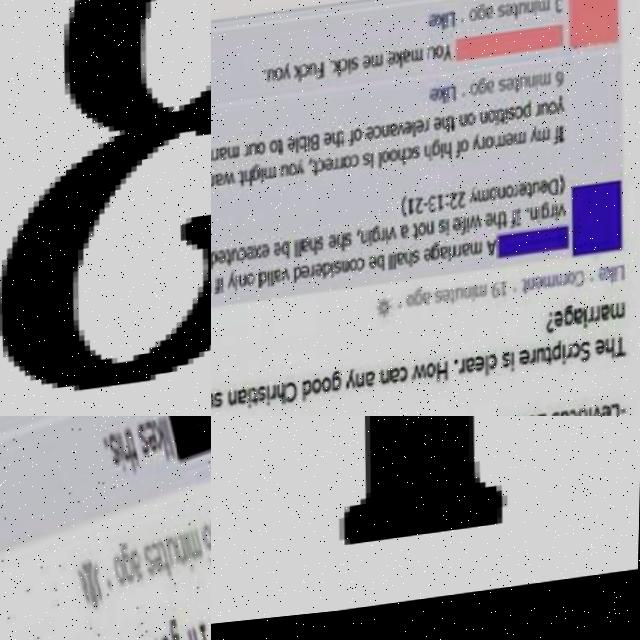1: (501, 289, 509, 308), (437, 202, 445, 219), (409, 206, 416, 222)
2: (459, 199, 466, 218), (417, 204, 424, 223), (452, 201, 459, 219)
3: (0, 0, 211, 415), (428, 202, 438, 221), (556, 6, 563, 25)
6: (201, 530, 211, 577), (555, 81, 564, 100)
9: (491, 291, 502, 309)
A: (465, 364, 477, 383), (366, 376, 377, 395), (238, 391, 249, 410), (601, 315, 612, 334), (487, 247, 498, 266), (391, 374, 402, 392), (423, 297, 433, 313), (576, 320, 585, 337), (440, 253, 449, 269), (487, 87, 496, 103), (486, 13, 495, 29), (463, 251, 472, 266), (275, 273, 284, 288), (220, 149, 229, 164), (302, 244, 311, 258), (398, 258, 406, 273), (401, 232, 409, 247), (216, 176, 224, 191), (390, 129, 398, 144), (403, 56, 411, 71)
B: (282, 246, 292, 265), (310, 139, 319, 157), (377, 260, 385, 279), (300, 140, 307, 159)
C: (287, 386, 298, 409), (575, 281, 587, 300), (574, 352, 583, 371), (400, 372, 409, 391), (490, 364, 499, 379), (301, 68, 309, 83), (407, 154, 414, 169), (341, 63, 348, 78), (239, 251, 246, 265), (359, 263, 365, 278), (353, 160, 359, 175), (319, 165, 325, 179), (375, 133, 381, 146)
D: (304, 385, 314, 408), (548, 188, 560, 207), (324, 266, 332, 285), (294, 270, 301, 289), (260, 274, 267, 293), (212, 254, 219, 273)
E: (597, 349, 608, 368), (521, 358, 532, 377), (476, 364, 487, 383), (555, 320, 566, 339), (328, 240, 338, 255), (404, 127, 413, 143), (504, 11, 513, 27), (316, 268, 325, 283), (262, 248, 271, 263), (541, 189, 550, 204), (325, 163, 334, 178), (416, 126, 425, 141), (362, 61, 371, 76), (367, 132, 376, 146), (302, 270, 311, 284), (600, 277, 608, 292), (486, 222, 494, 237), (455, 225, 463, 240), (519, 192, 527, 207), (434, 124, 442, 139), (288, 141, 296, 156), (431, 94, 439, 109), (537, 286, 545, 300), (444, 296, 452, 310), (370, 262, 378, 276), (275, 246, 282, 262), (247, 249, 254, 265), (219, 254, 227, 268), (324, 138, 332, 152), (506, 87, 514, 101), (388, 58, 396, 72), (430, 21, 438, 35), (426, 255, 432, 270), (508, 143, 514, 157)
F: (315, 66, 325, 85), (460, 226, 468, 245), (553, 137, 560, 156), (455, 148, 462, 167), (215, 281, 222, 299), (510, 221, 517, 239), (348, 136, 355, 154)
G: (565, 315, 577, 336), (333, 377, 343, 398), (433, 146, 443, 165), (432, 250, 441, 269), (479, 85, 488, 104), (542, 212, 551, 230), (478, 12, 487, 30), (372, 233, 380, 250), (417, 296, 424, 314), (254, 168, 261, 186)
H: (437, 369, 450, 390), (606, 349, 616, 372), (278, 388, 288, 411), (406, 257, 414, 276), (338, 240, 346, 259), (494, 221, 501, 240), (399, 155, 406, 174), (245, 173, 252, 192), (333, 137, 340, 156), (425, 152, 432, 171), (311, 244, 318, 262), (445, 150, 452, 168), (443, 125, 450, 143)
I: (516, 218, 523, 236), (558, 137, 565, 155), (512, 361, 517, 382), (267, 391, 272, 411), (555, 215, 560, 234), (267, 273, 272, 291), (368, 236, 373, 254), (445, 94, 450, 112), (563, 355, 567, 377), (586, 318, 590, 340), (249, 392, 253, 413), (440, 151, 445, 167), (535, 85, 540, 101), (538, 216, 542, 235), (466, 225, 470, 244), (446, 227, 450, 246), (385, 234, 389, 253), (496, 117, 500, 136), (534, 9, 538, 28), (472, 295, 477, 310), (448, 253, 452, 271), (444, 19, 448, 37), (370, 159, 374, 175), (504, 118, 508, 134), (221, 281, 225, 296), (261, 173, 265, 188), (332, 266, 335, 284), (348, 63, 351, 81), (307, 141, 310, 157), (616, 277, 618, 295)
J: (323, 416, 557, 565)
K: (395, 56, 403, 75), (333, 65, 341, 84), (608, 277, 615, 296), (438, 95, 445, 114), (294, 69, 301, 88), (437, 21, 444, 40)
L: (619, 275, 626, 294), (450, 93, 457, 112), (449, 19, 456, 38), (486, 364, 491, 387), (412, 128, 417, 147), (390, 259, 394, 278), (393, 259, 397, 277), (271, 275, 275, 293), (295, 246, 299, 264), (379, 158, 383, 176), (299, 245, 302, 264), (236, 278, 239, 296), (296, 142, 299, 160)
M: (611, 314, 627, 332), (476, 292, 489, 307), (477, 198, 490, 213), (537, 140, 552, 153), (544, 284, 556, 299), (472, 250, 484, 265), (515, 141, 527, 156), (494, 144, 506, 159), (227, 149, 239, 164), (411, 55, 423, 70), (371, 60, 383, 75), (538, 7, 550, 22), (556, 284, 569, 297), (265, 172, 277, 185), (539, 83, 551, 96)
N: (381, 376, 391, 392), (358, 379, 367, 395), (230, 394, 239, 410), (342, 265, 350, 280), (239, 278, 247, 293), (428, 229, 435, 244), (481, 118, 488, 133), (382, 130, 389, 145), (528, 84, 535, 99), (465, 295, 472, 309), (362, 237, 369, 251), (532, 218, 538, 233), (499, 194, 505, 209), (461, 122, 467, 137), (527, 10, 533, 25), (530, 288, 536, 300), (211, 178, 214, 190)
O: (312, 384, 324, 400), (427, 371, 438, 387), (323, 383, 334, 399), (343, 161, 353, 177), (487, 118, 497, 134), (467, 120, 477, 136), (461, 148, 470, 163), (354, 133, 363, 148), (274, 71, 283, 86), (407, 301, 416, 315), (350, 265, 359, 279), (505, 194, 514, 208), (486, 145, 495, 159), (390, 157, 399, 171), (247, 277, 255, 292), (490, 195, 498, 210), (382, 157, 390, 172), (289, 168, 297, 183), (270, 144, 278, 159), (470, 16, 478, 31), (419, 230, 427, 244), (257, 146, 265, 160), (471, 91, 479, 105), (435, 53, 443, 67), (570, 282, 577, 296), (550, 111, 557, 125), (516, 115, 523, 129)
P: (553, 352, 564, 371), (524, 109, 531, 128)
R: (531, 357, 538, 376), (460, 367, 467, 383), (271, 390, 278, 406), (595, 317, 602, 333), (589, 318, 596, 334), (567, 355, 574, 370), (380, 235, 387, 249), (535, 114, 542, 128), (452, 252, 458, 267), (480, 146, 486, 161), (333, 163, 339, 178), (424, 126, 430, 141), (243, 147, 249, 162), (457, 253, 463, 267), (310, 269, 316, 283), (549, 215, 555, 229), (513, 193, 519, 207), (338, 163, 344, 177), (215, 151, 221, 165), (211, 150, 214, 164)
S: (581, 352, 592, 374), (259, 391, 269, 408), (215, 396, 224, 413), (504, 362, 513, 378), (363, 159, 371, 174), (352, 61, 359, 77), (437, 297, 444, 312), (318, 242, 325, 256), (336, 267, 342, 282), (415, 153, 421, 168), (509, 115, 515, 130), (414, 257, 420, 271), (439, 228, 445, 242), (346, 239, 352, 253), (499, 88, 505, 102), (498, 13, 504, 27)
T: (616, 348, 629, 371), (312, 165, 320, 184), (498, 116, 506, 135), (449, 122, 457, 141), (253, 390, 260, 411), (500, 221, 508, 239), (547, 357, 554, 376), (522, 287, 529, 306), (451, 295, 458, 314), (238, 173, 245, 192), (513, 10, 520, 29), (412, 231, 420, 247), (526, 192, 533, 209), (514, 85, 521, 102), (226, 253, 233, 269), (340, 136, 347, 152), (278, 144, 285, 160), (211, 281, 213, 297)
U: (537, 358, 548, 374), (533, 190, 542, 206), (282, 167, 289, 182), (542, 111, 549, 126), (309, 67, 316, 82), (232, 252, 239, 266), (457, 295, 464, 308), (251, 146, 257, 161), (521, 84, 527, 99), (429, 53, 435, 68), (520, 11, 526, 26), (268, 72, 274, 86), (211, 396, 215, 412)
V: (283, 273, 290, 287), (560, 213, 566, 228), (399, 129, 405, 144), (390, 234, 396, 248)
W: (413, 371, 430, 389), (471, 224, 483, 239), (223, 175, 235, 190)
X: (254, 249, 260, 263)
Y: (347, 374, 359, 395), (443, 51, 454, 70), (469, 194, 479, 213), (473, 142, 483, 161), (297, 163, 305, 181), (557, 106, 565, 124), (530, 137, 538, 153), (283, 67, 290, 85), (229, 276, 236, 292)
